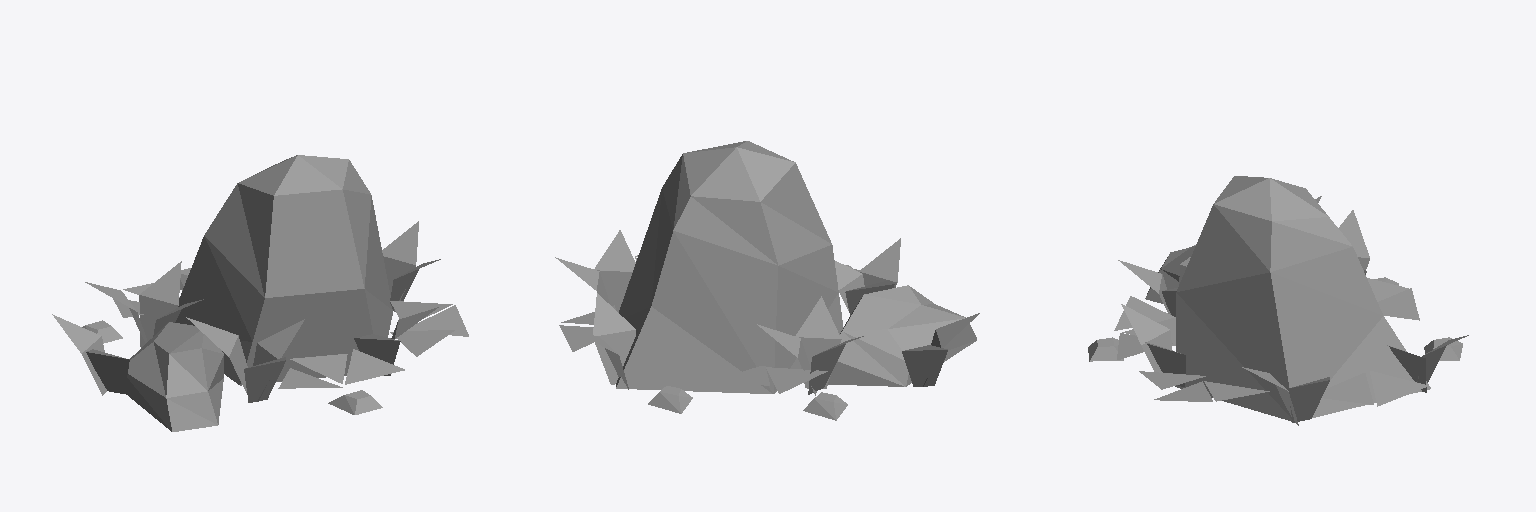
File: farm_rocks_01.obj
The picture shows the model from 3 angles: view 1: azimuth 30°, elevation 25°; view 2: azimuth 150°, elevation 25°; view 3: azimuth 270°, elevation 25°; orthographic projection.
Parts seen in each view (by area): view 1: farm_rocks_farm_rocks_mesh; view 2: farm_rocks_farm_rocks_mesh; view 3: farm_rocks_farm_rocks_mesh.
Boxes of the visible parts, box(x1,y1,x2,y2) form: farm_rocks_farm_rocks_mesh: box(52, 155, 468, 431); farm_rocks_farm_rocks_mesh: box(555, 141, 979, 420); farm_rocks_farm_rocks_mesh: box(1088, 176, 1468, 425).
Bounding box in the file's own units: 2.41 × 1.17 × 2.13.